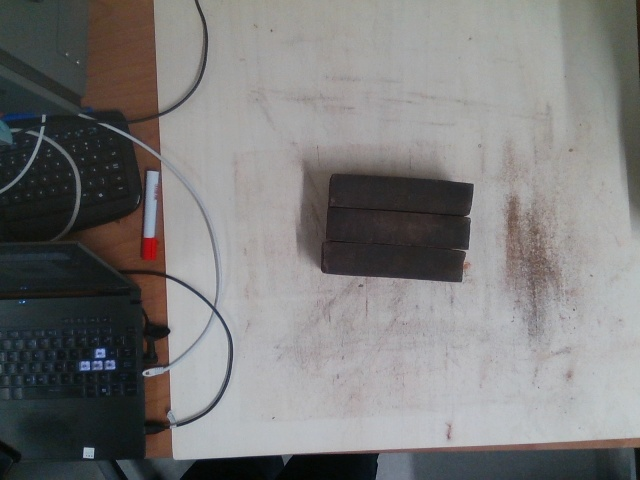brick-side: (327, 205, 468, 249), (331, 173, 472, 217), (324, 239, 465, 283)
